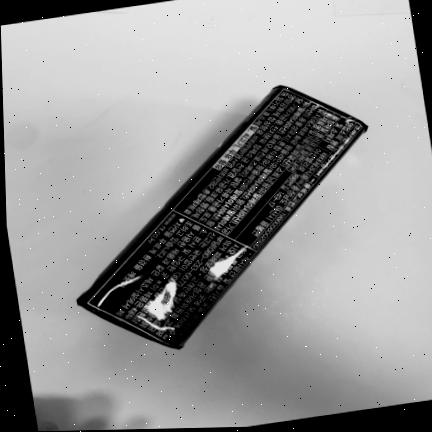cracker_ace: (77, 86, 366, 348)
